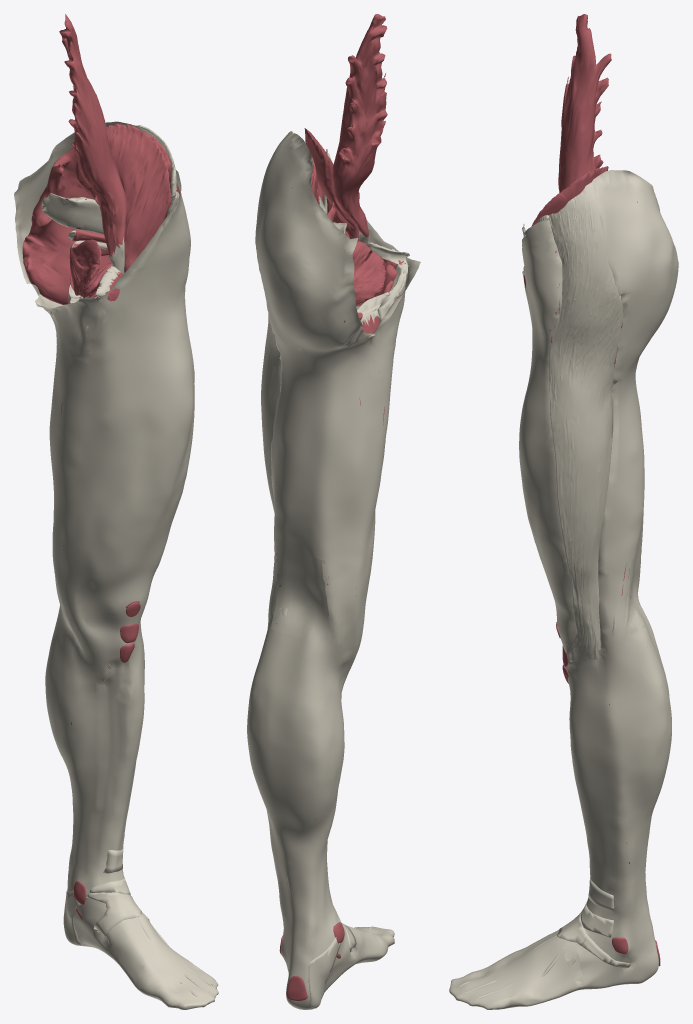
The model's file is detail-muscular-left-lower-limb.glb.
The picture shows the model from 3 angles, left to right: view 1: azimuth 30°, elevation 25°; view 2: azimuth 150°, elevation 25°; view 3: azimuth 270°, elevation 25°; orthographic projection. The views are drawn at different scales.
Visible parts, largest first — view 1: za-4ddf98f6babebab8, za-44fa1052d9e0d0df, za-2b1ab0ddc94089f3, za-dcb37970a81f60dc, za-db4c9d48439b4b69, za-e5a670ee85afed3c, za-211a9d8cc4c13c5e, za-2c0e5ad53857c6a0, za-1021f91732ce4bfc, za-ca854ecababae8ca, za-98cfd2e473952973; view 2: za-4ddf98f6babebab8, za-44fa1052d9e0d0df, za-2b1ab0ddc94089f3, za-8d92a4b0eafabd39, za-119decb9d97ffaf5, za-211a9d8cc4c13c5e, za-dcb37970a81f60dc, za-1021f91732ce4bfc, za-9b14ad7808bb5f58, za-ca854ecababae8ca, za-a88fde0fa128611a, za-8e9a76d77b2cb63a; view 3: za-4ddf98f6babebab8, za-44fa1052d9e0d0df, za-119decb9d97ffaf5, za-2b1ab0ddc94089f3, za-2c0e5ad53857c6a0, za-dcb37970a81f60dc, za-8d92a4b0eafabd39, za-b30399e80ad15af2, za-88bf34d9ac762ebc.
Part boxes in pixels (x1,y1,x2,y2): za-4ddf98f6babebab8: [14, 121, 194, 616]; za-44fa1052d9e0d0df: [45, 588, 218, 1009]; za-2b1ab0ddc94089f3: [59, 14, 126, 273]; za-dcb37970a81f60dc: [106, 123, 171, 272]; za-db4c9d48439b4b69: [22, 148, 110, 304]; za-e5a670ee85afed3c: [41, 193, 103, 234]; za-211a9d8cc4c13c5e: [69, 239, 107, 295]; za-2c0e5ad53857c6a0: [86, 892, 141, 936]; za-1021f91732ce4bfc: [63, 890, 80, 945]; za-ca854ecababae8ca: [95, 266, 122, 301]; za-98cfd2e473952973: [75, 131, 171, 219]; za-4ddf98f6babebab8: [255, 133, 420, 638]; za-44fa1052d9e0d0df: [247, 623, 394, 1009]; za-2b1ab0ddc94089f3: [333, 14, 387, 244]; za-8d92a4b0eafabd39: [271, 545, 331, 641]; za-119decb9d97ffaf5: [255, 131, 293, 512]; za-211a9d8cc4c13c5e: [352, 241, 385, 304]; za-dcb37970a81f60dc: [304, 128, 359, 241]; za-1021f91732ce4bfc: [308, 937, 340, 1008]; za-9b14ad7808bb5f58: [356, 292, 389, 372]; za-ca854ecababae8ca: [364, 242, 409, 269]; za-a88fde0fa128611a: [356, 269, 406, 596]; za-8e9a76d77b2cb63a: [286, 976, 307, 1000]; za-4ddf98f6babebab8: [519, 170, 678, 649]; za-44fa1052d9e0d0df: [449, 619, 671, 1009]; za-119decb9d97ffaf5: [549, 181, 623, 664]; za-2b1ab0ddc94089f3: [558, 14, 611, 192]; za-2c0e5ad53857c6a0: [557, 912, 630, 968]; za-dcb37970a81f60dc: [531, 166, 608, 226]; za-8d92a4b0eafabd39: [629, 538, 647, 634]; za-b30399e80ad15af2: [580, 902, 613, 937]; za-88bf34d9ac762ebc: [557, 937, 583, 986].
Size of the model in its own units: 0.1612 by 1.15 by 0.2518.
